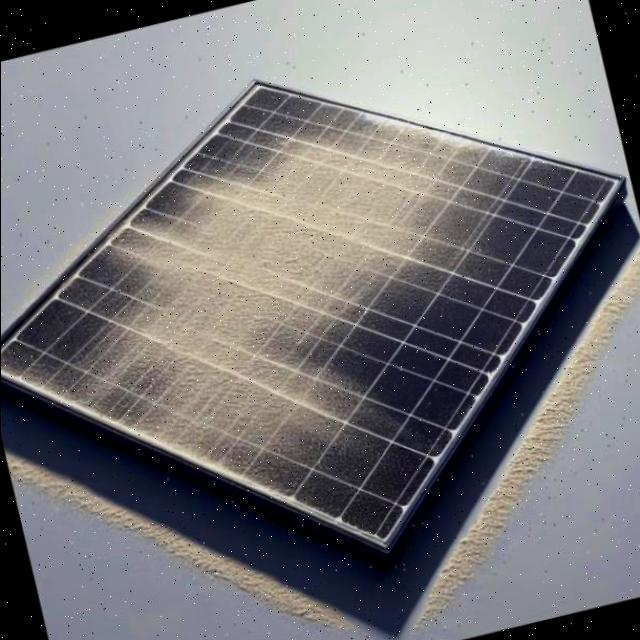Anomaly Solar Panel: (0, 8, 615, 565)
Surface Contaminant: (0, 12, 537, 533)
